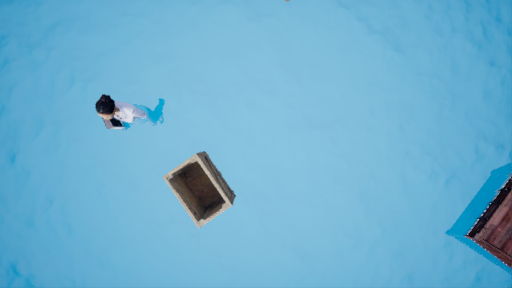person: (88, 92, 177, 136)
